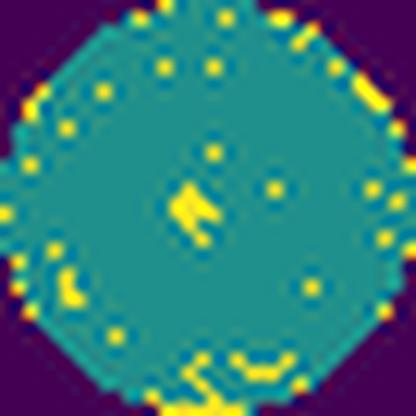Center: (170, 182, 229, 254)
